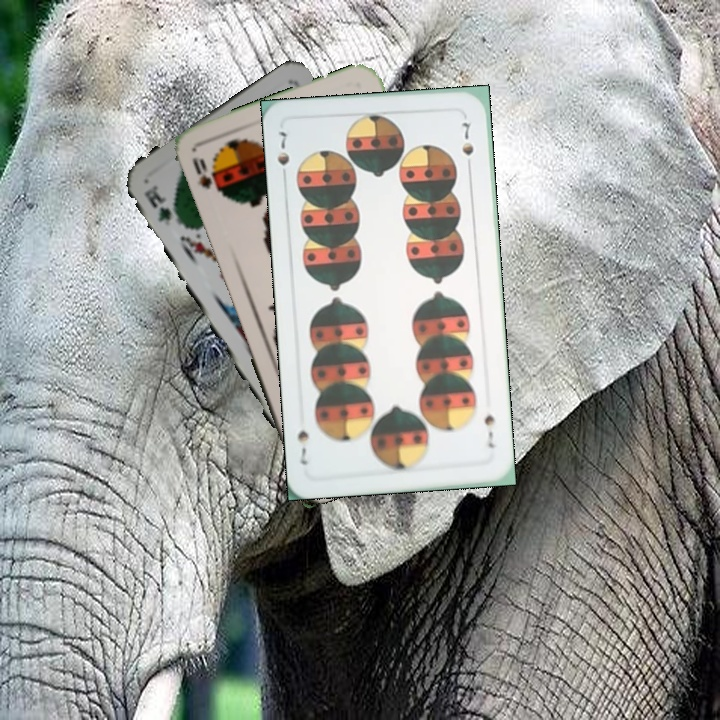GK: (140, 183, 174, 229)
S7: (273, 127, 292, 183), (480, 411, 497, 451)
SO: (188, 153, 221, 195)
